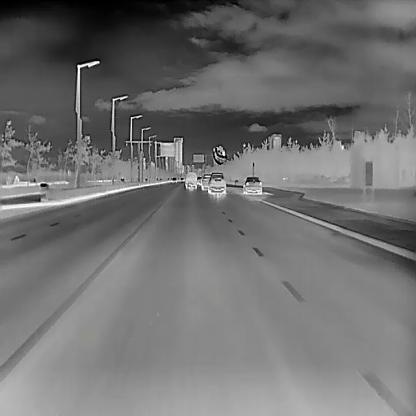car: (208, 172, 226, 194), (242, 176, 262, 194), (184, 172, 196, 190), (199, 174, 212, 190)
